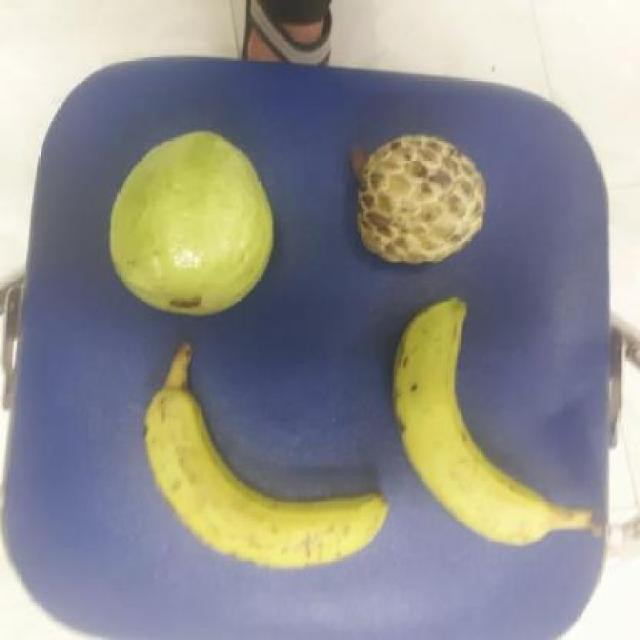banana: (135, 383, 397, 574), (390, 295, 556, 557)
guava: (106, 130, 289, 322)
sugar apple: (355, 131, 487, 274)
